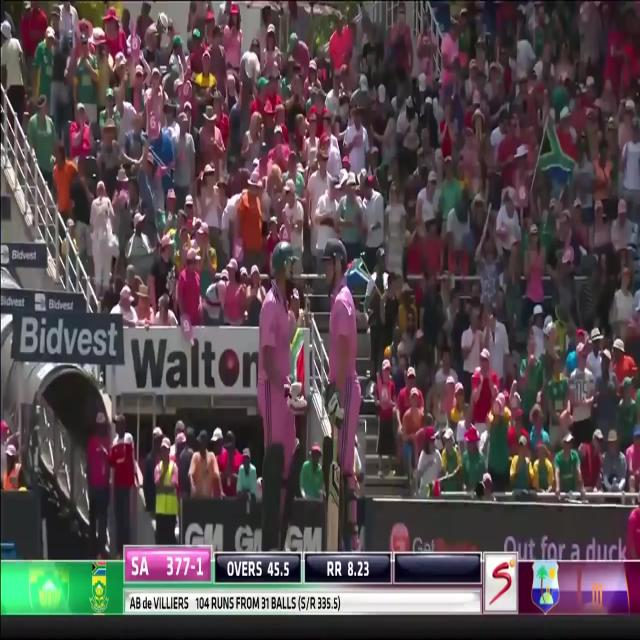Ball: (255, 239, 304, 554)
